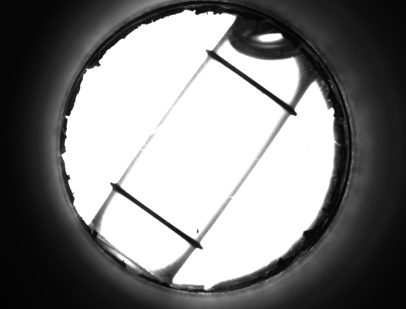line: (122, 199, 189, 231), (220, 68, 285, 96)
